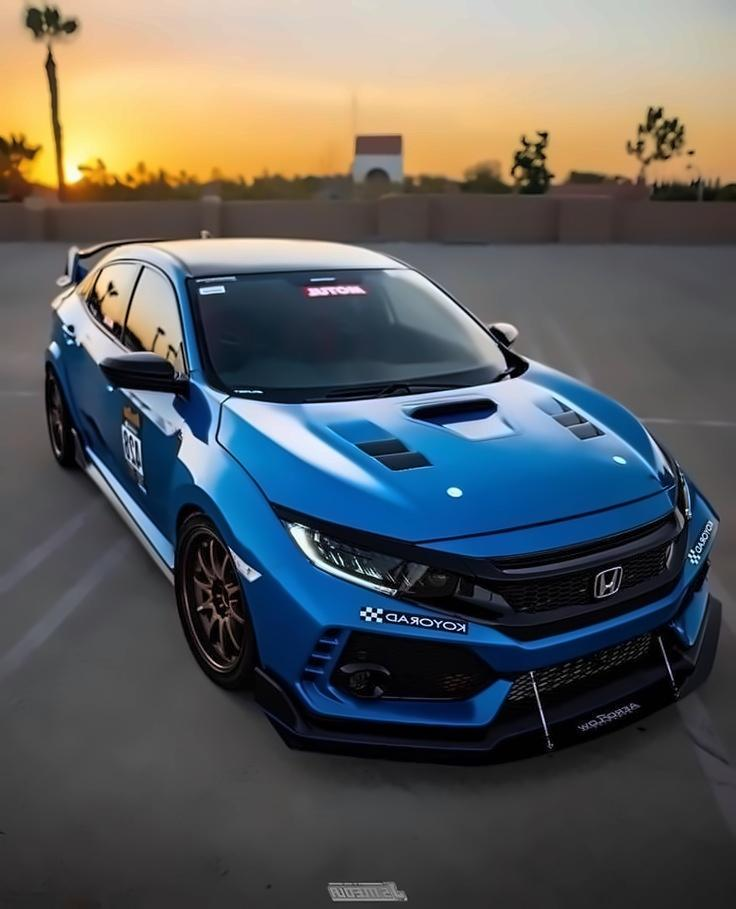Car hood: (217, 360, 695, 582)
Driver-s door - -F-R-: (112, 247, 189, 552)
Fender - -F-R-: (174, 362, 303, 589)
Front bumper: (240, 582, 733, 772)
Headlight - -R-: (274, 500, 459, 611)
Passenger-s door - -R-R-: (57, 244, 111, 475)
Side bumper - -R-: (64, 426, 178, 588)
Side mirror - -L-: (479, 312, 526, 355)
Side mirror - -R-: (97, 343, 199, 400)
